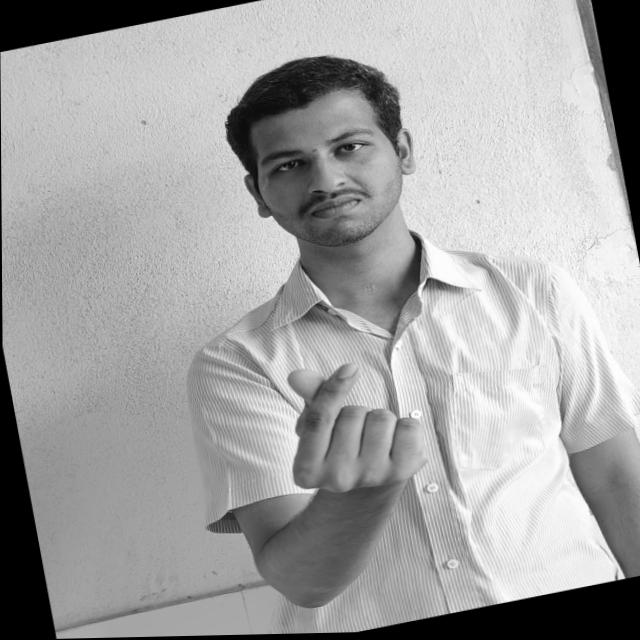Grattitude: (270, 347, 435, 511)
